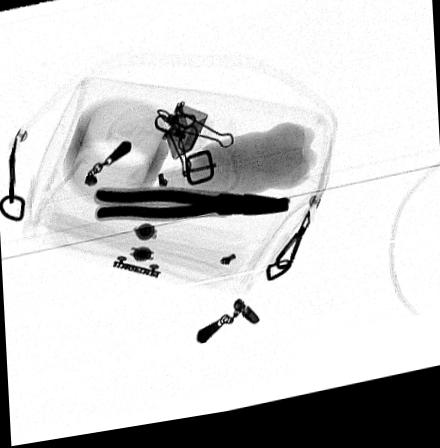Pliers: (95, 194, 291, 227)
